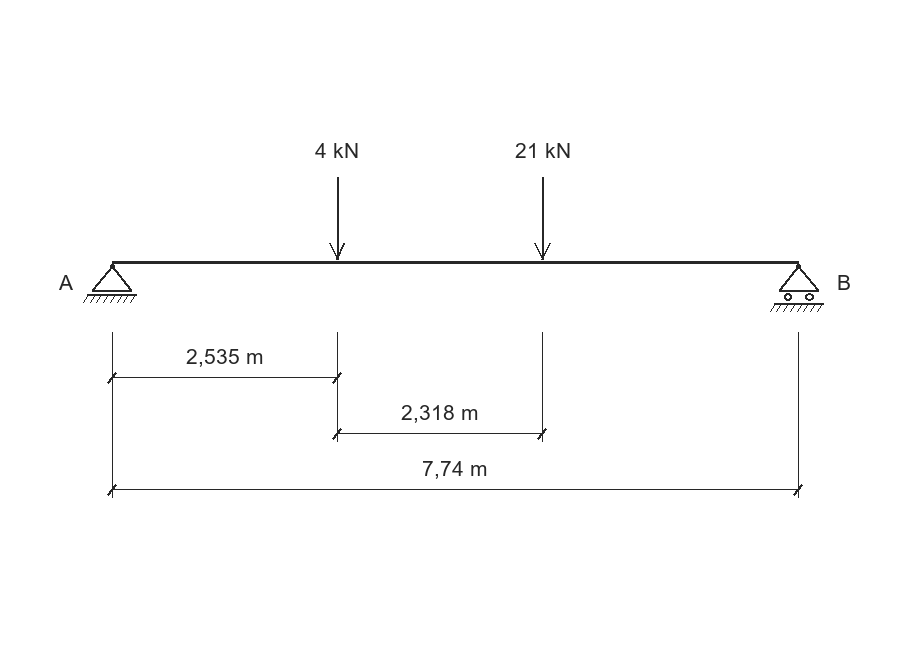pin_support: (83, 264, 137, 303)
point_load: (534, 177, 551, 260), (329, 177, 345, 260)
roller_support: (770, 264, 824, 312)
